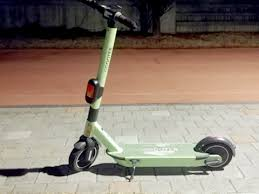kick_board: (69, 1, 234, 170)
kick_body: (121, 144, 198, 167)
kick_handler: (82, 1, 137, 27)
kick_neck: (82, 28, 117, 131)
kick_wheel: (200, 137, 232, 170), (70, 139, 98, 170)
